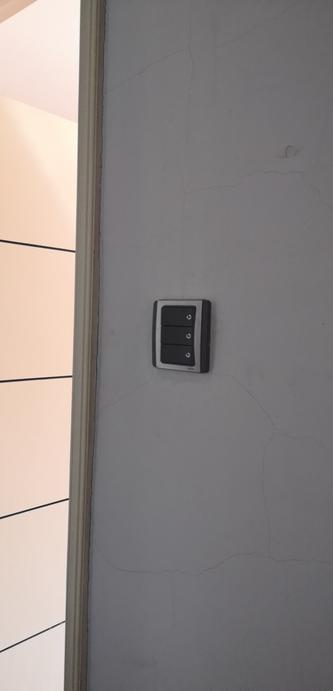switch: (154, 339, 200, 370), (153, 322, 198, 352), (157, 303, 199, 328)
